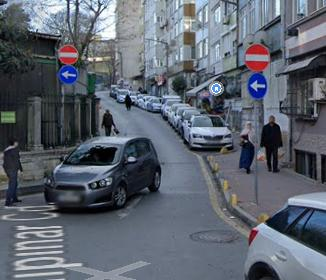turnleft: (247, 73, 267, 99), (57, 65, 78, 84)
